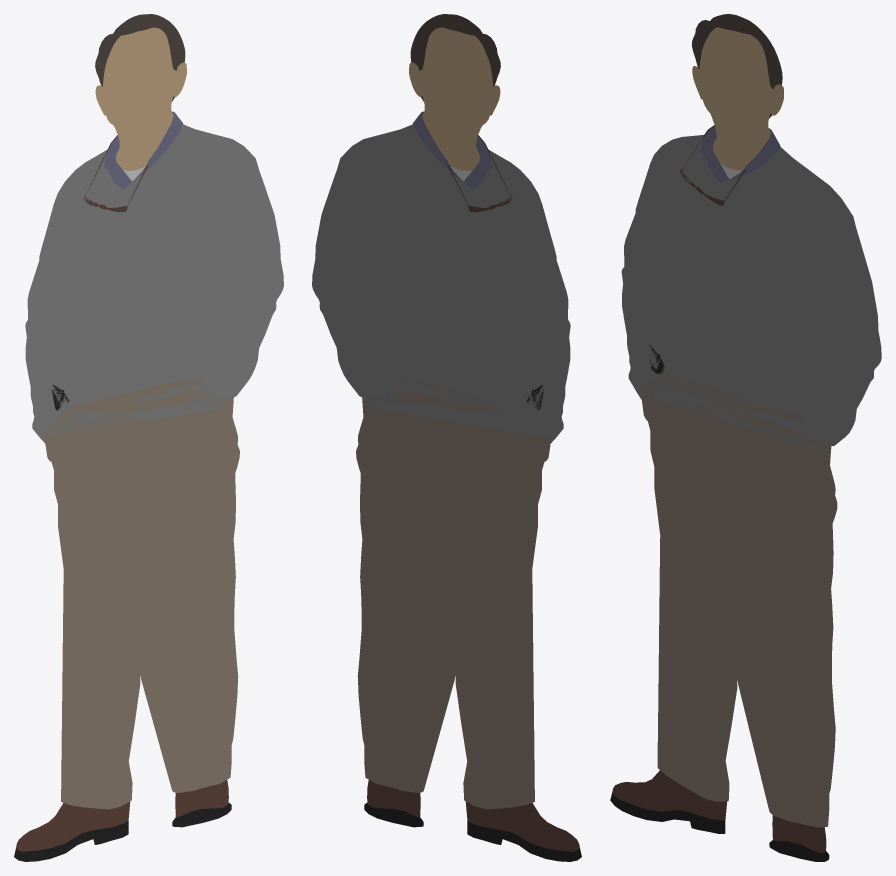
File: Player.fbx
3 views of the same model, side by side, from view 1: azimuth 30°, elevation 25°; view 2: azimuth 150°, elevation 25°; view 3: azimuth 330°, elevation 25° (orthographic).
Parts seen in each view (by area): view 1: Derrick1; view 2: Derrick1; view 3: Derrick1.
Part boxes in pixels (box(x1,y1,x2,y2)): Derrick1: box(14, 14, 283, 861); Derrick1: box(312, 14, 581, 861); Derrick1: box(610, 14, 881, 861).
Bounding box in the file's own units: 23.7 × 69.09 × 0.
